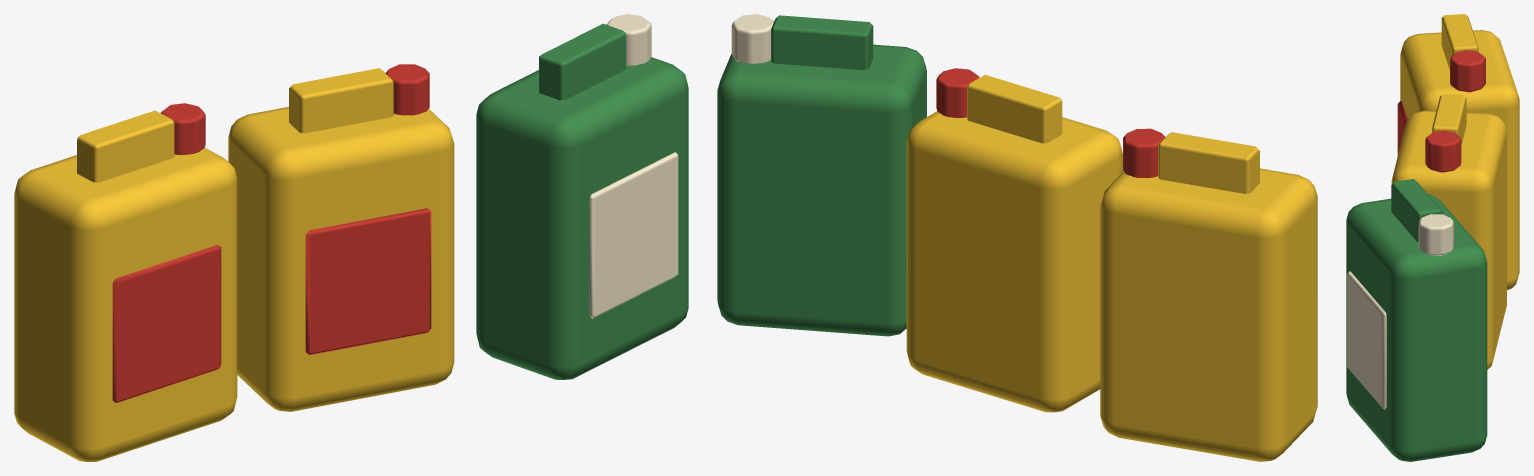
The model's file is prop_jerrycans.glb.
The picture shows the model from 3 angles, left to right: view 1: azimuth 30°, elevation 25°; view 2: azimuth 150°, elevation 25°; view 3: azimuth 270°, elevation 25°; orthographic projection. The views are drawn at different scales.
Visible parts, largest first — view 1: prop_jerrycans; view 2: prop_jerrycans; view 3: prop_jerrycans.
Part boxes in pixels (<box>): prop_jerrycans: <box>14,14,688,461</box>; prop_jerrycans: <box>717,14,1317,461</box>; prop_jerrycans: <box>1346,14,1519,461</box>.
Bounding box in the file's own units: 1.04 × 0.48 × 0.3203.
